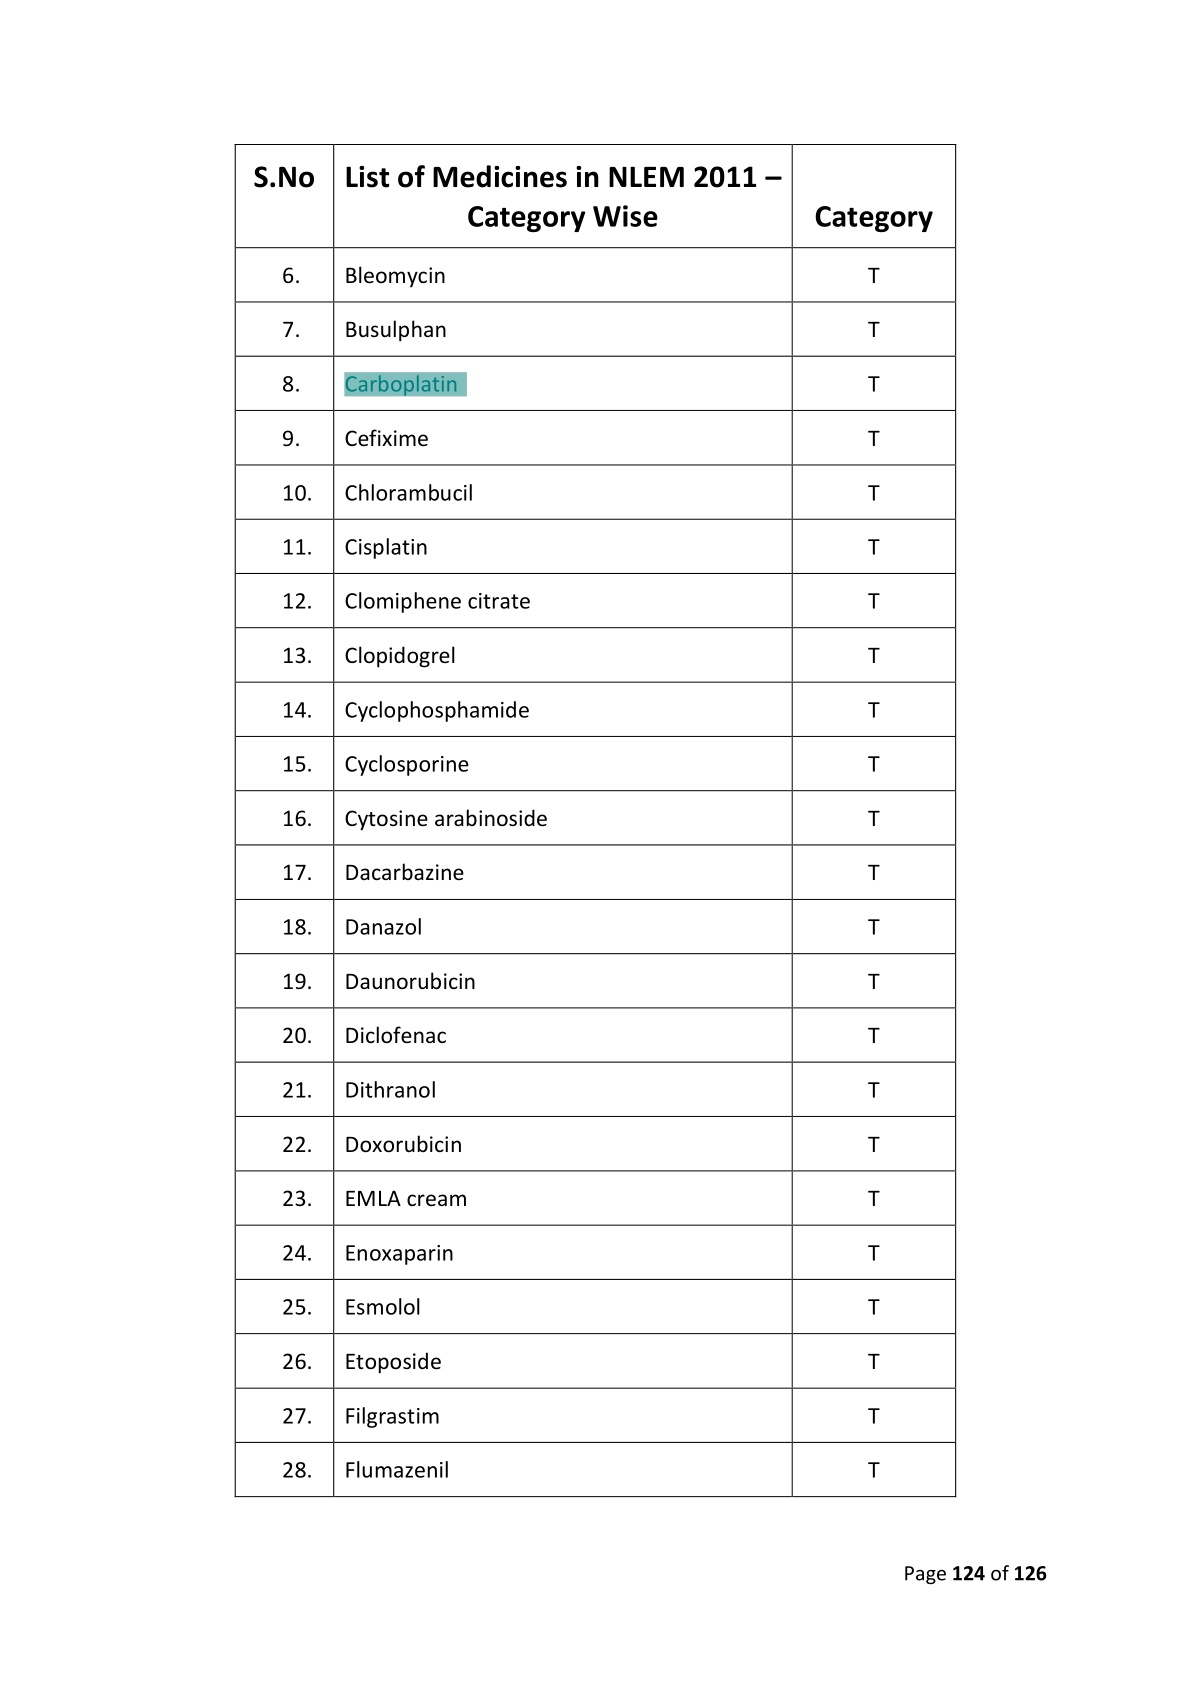full_lined: (233, 140, 968, 1506)
